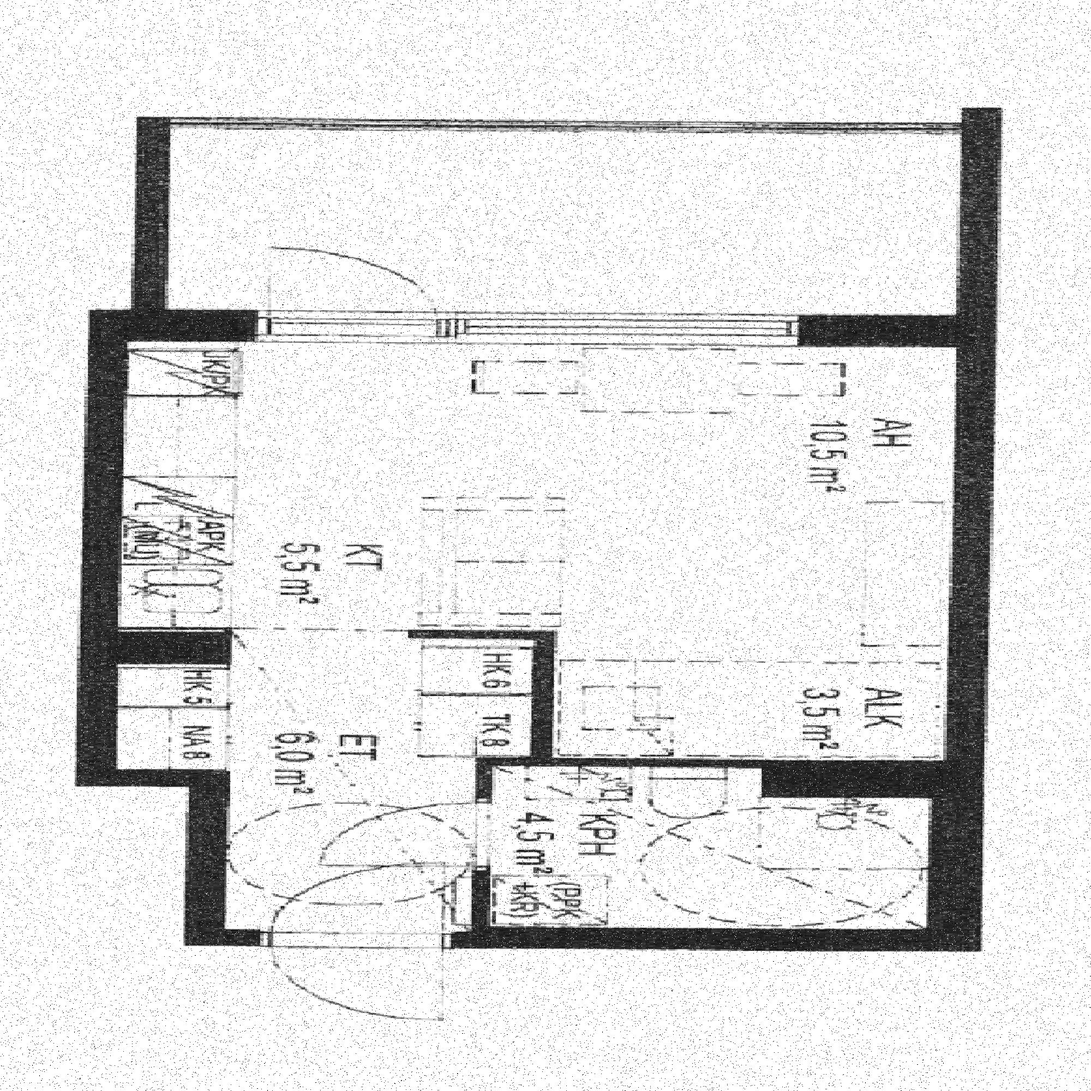wall: (80, 311, 984, 343), (946, 311, 983, 762), (79, 312, 112, 787), (497, 928, 984, 948), (931, 762, 983, 948), (937, 108, 984, 311), (132, 118, 984, 128), (185, 771, 227, 948), (131, 118, 165, 311), (185, 934, 496, 948), (473, 762, 496, 948), (474, 762, 983, 769), (533, 632, 556, 769), (79, 771, 226, 787), (405, 632, 555, 640)
